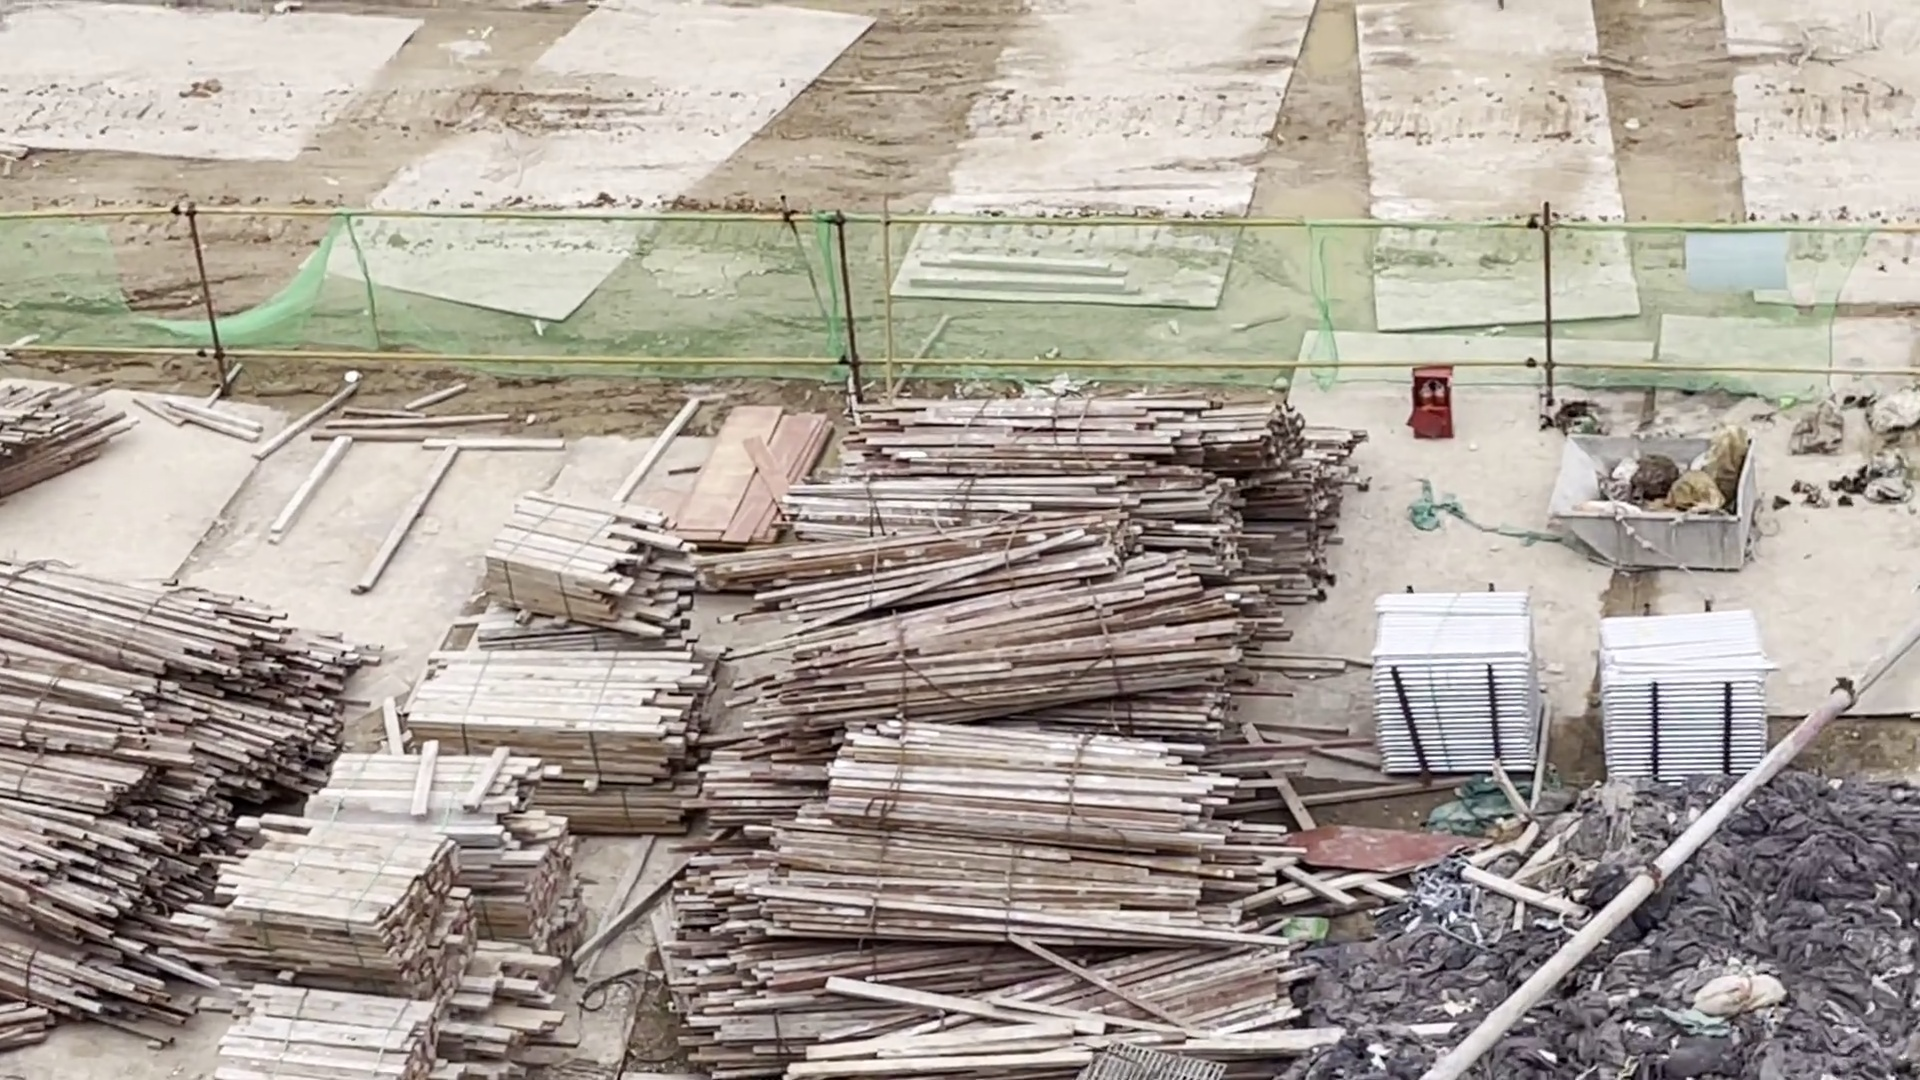board: (699, 409, 835, 579)
hopper: (1551, 435, 1763, 560)
scaffold: (1374, 589, 1539, 789), (1597, 620, 1762, 771)
wood: (274, 640, 713, 1080), (1, 564, 324, 1044), (783, 723, 1261, 1035), (855, 389, 1361, 576), (762, 589, 1283, 764), (493, 485, 682, 628), (3, 382, 119, 498)
